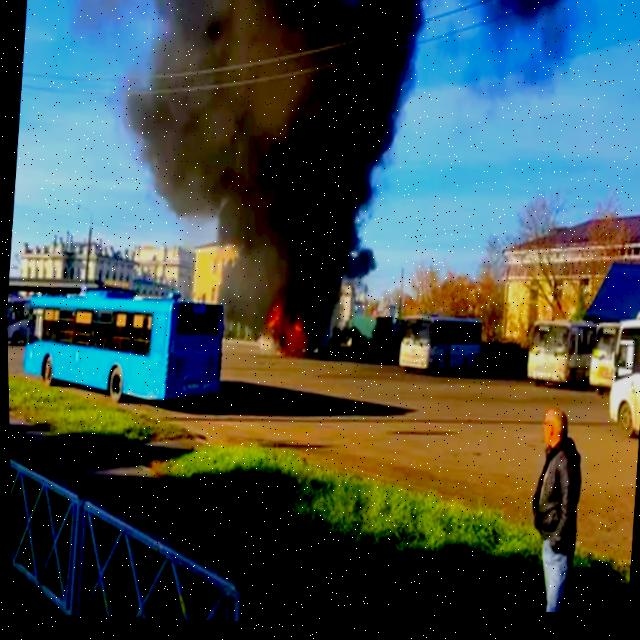Smoke: (92, 0, 452, 337)
